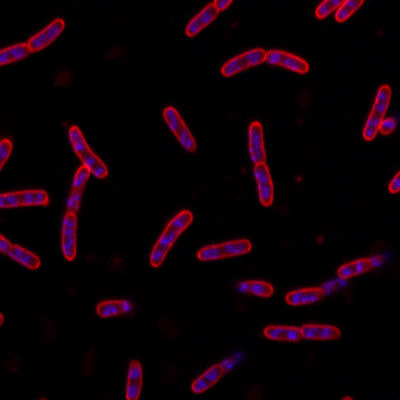Control: (1, 17, 66, 68), (218, 46, 311, 79), (149, 209, 193, 267), (247, 120, 274, 208), (69, 125, 108, 179), (184, 1, 234, 37), (161, 105, 197, 152), (263, 322, 342, 343), (362, 84, 391, 141), (1, 233, 40, 272), (195, 238, 251, 262), (1, 187, 48, 211)
Oblique: (61, 161, 90, 262), (190, 350, 243, 395), (284, 278, 347, 306), (335, 252, 386, 280), (95, 298, 134, 318), (231, 279, 274, 297), (378, 116, 397, 137)
